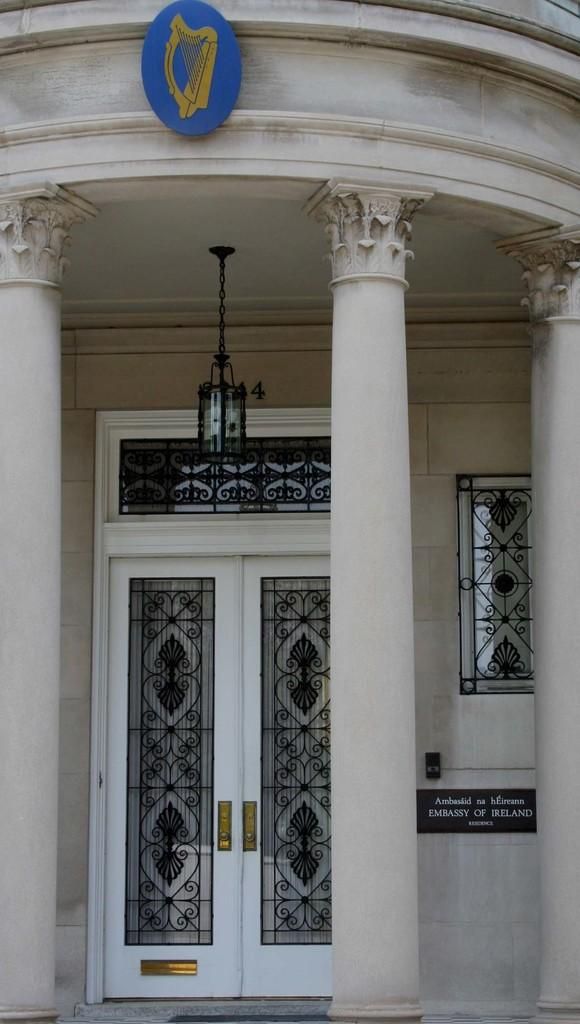handle: (242, 792, 258, 855), (218, 800, 234, 854)
